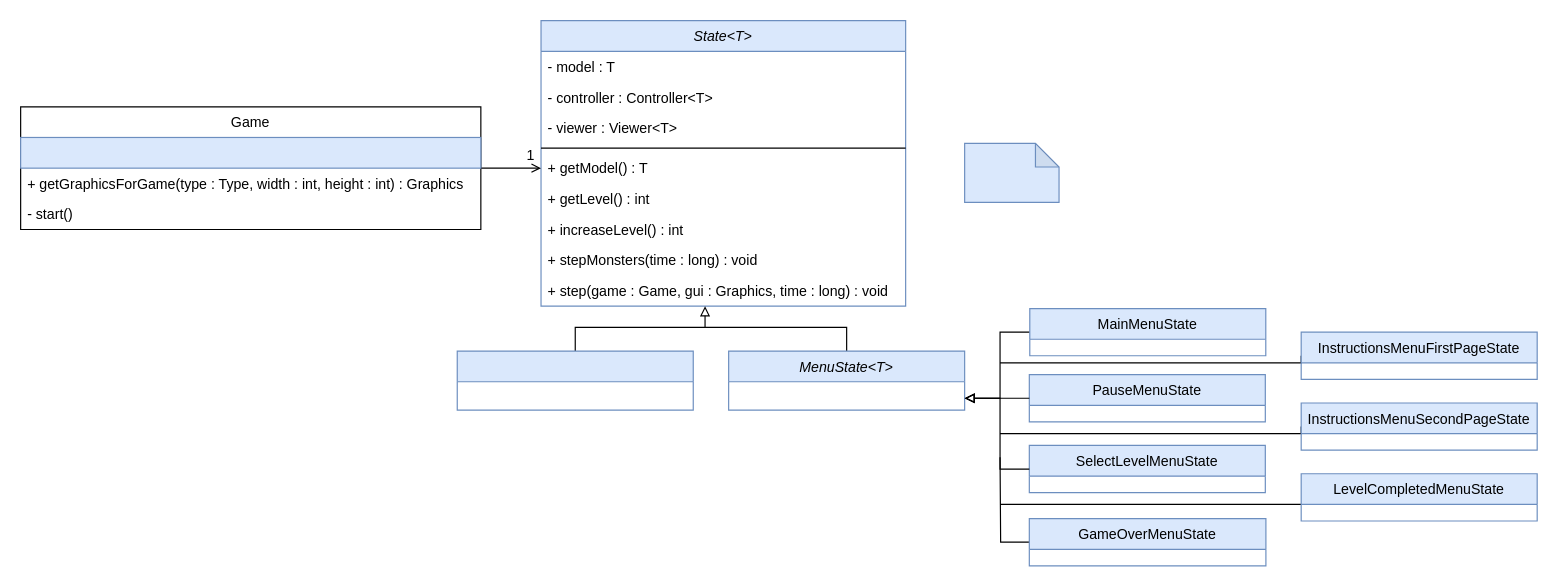
The diagram is 1559 pixels wide and 586 high, and some of its shapes have lost their labels. The shapes that lost their labels are listed below. From the top down, each one's box as (x1, y1, x2, y2) in pixels, then its label:
(19, 136, 481, 168): + setState(state : State)
(963, 142, 1059, 202): State Pattern
(456, 350, 693, 410): GameState
